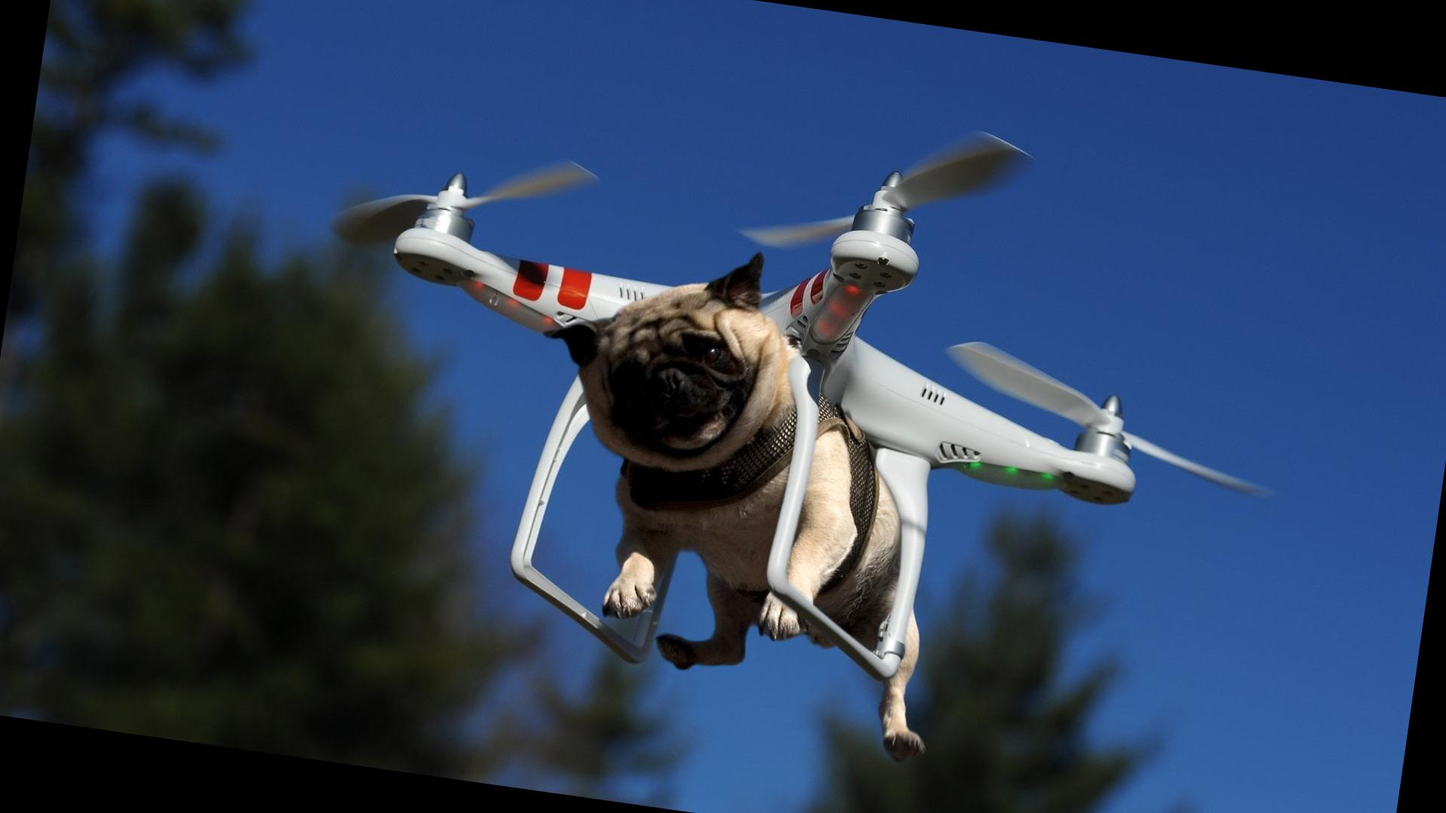drone: (326, 73, 1215, 630)
